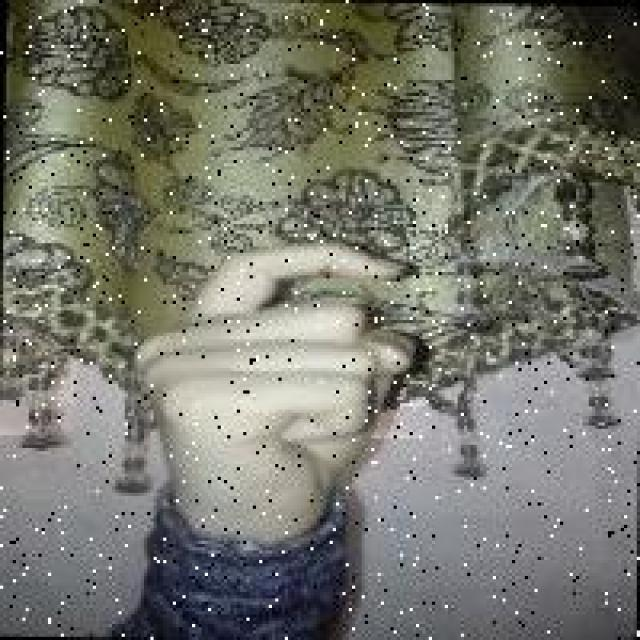X: (123, 227, 418, 538)
